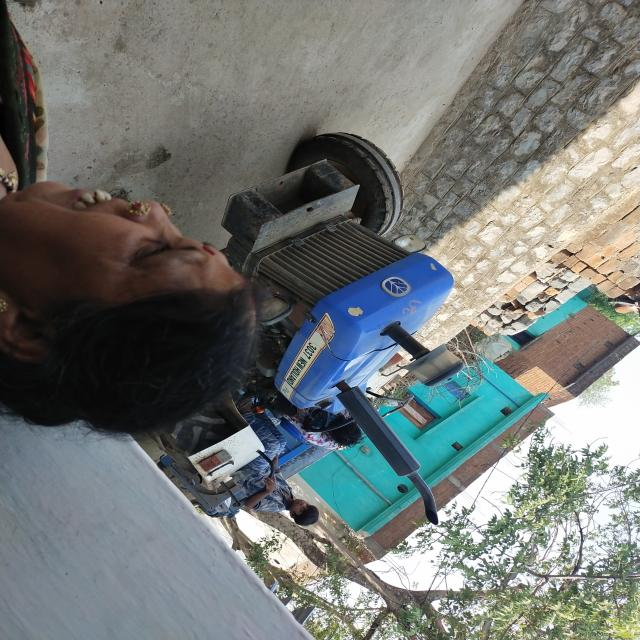Tractor: (220, 138, 466, 422)
